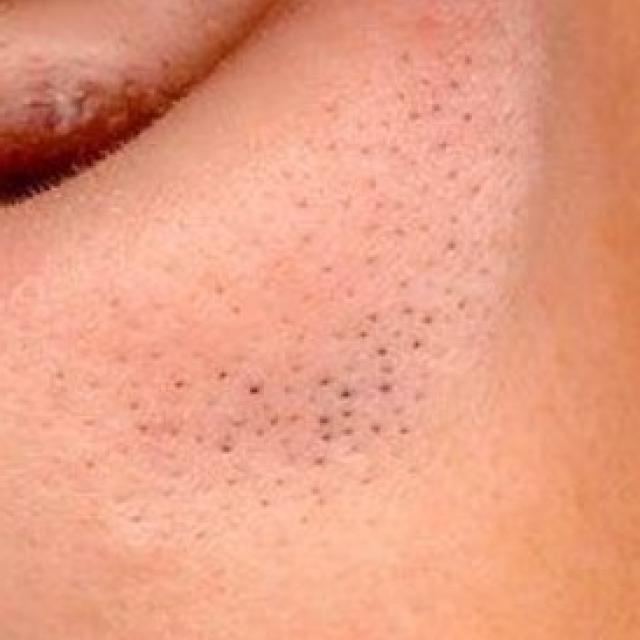blackhead: (76, 34, 482, 494)
